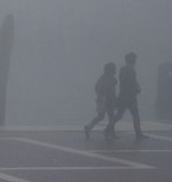person: (102, 52, 150, 141), (84, 61, 120, 141)
